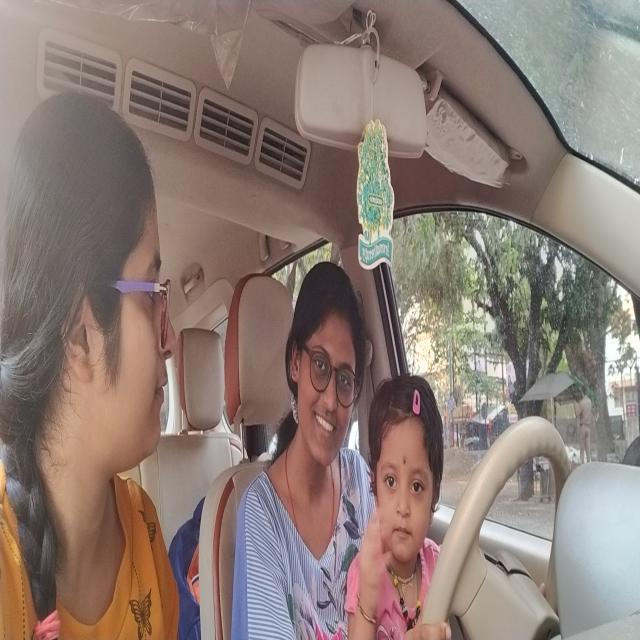child: (366, 365, 449, 563)
person: (0, 74, 181, 498), (284, 249, 367, 486)
